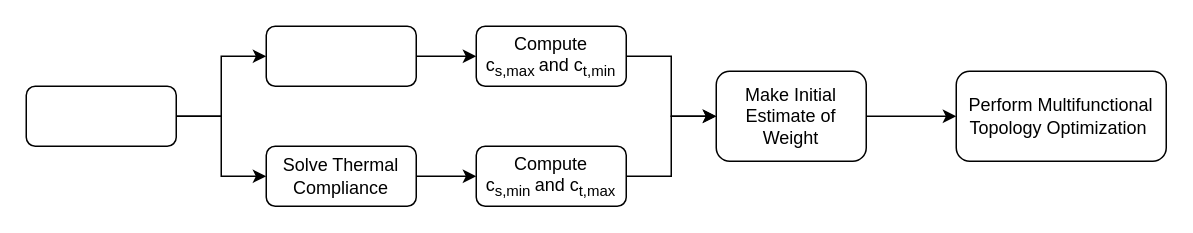
Some shapes in this 1193 by 233 pixel diagram are drawn without their labels. The box of each missing label's shape, as (x1, y1, x2, y2) in pixels:
Initial Mesh, BCs and Utopia Point: (25, 85, 176, 146)
Solve Structural Compliance: (265, 25, 416, 86)
